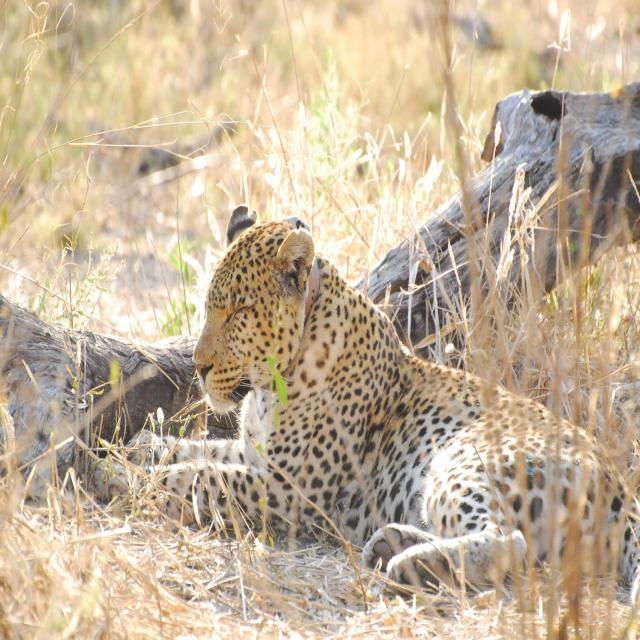Leopard: (135, 202, 631, 607)
